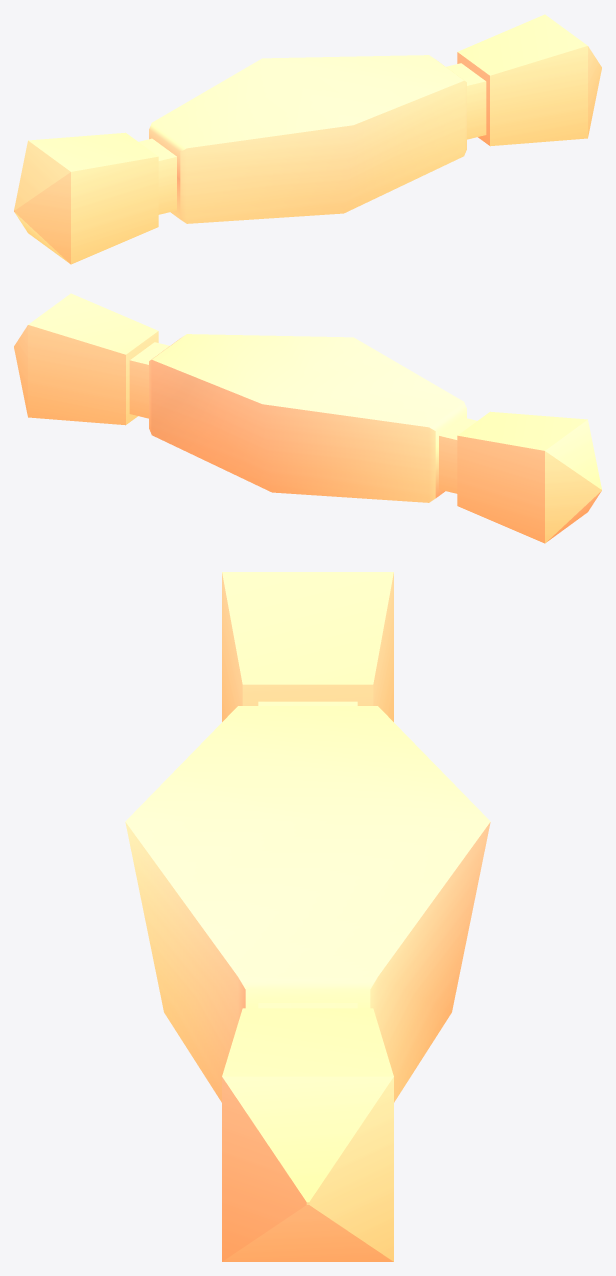
Rendered from wood_guard_076_004.glb.
The picture shows the model from 3 angles, top to bottom: view 1: azimuth 30°, elevation 25°; view 2: azimuth 150°, elevation 25°; view 3: azimuth 270°, elevation 25°; orthographic projection. The views are drawn at different scales.
Parts seen in each view (by area): view 1: wood_guard_076.004; view 2: wood_guard_076.004; view 3: wood_guard_076.004.
Part boxes in pixels (left/top/right/bottom): wood_guard_076.004: left=14, top=14, right=601, bottom=264; wood_guard_076.004: left=14, top=293, right=601, bottom=543; wood_guard_076.004: left=125, top=572, right=490, bottom=1261.
Size of the model in its own units: 9.16 by 1.42 by 2.47.
Materials: 1 (1 with a texture image).
